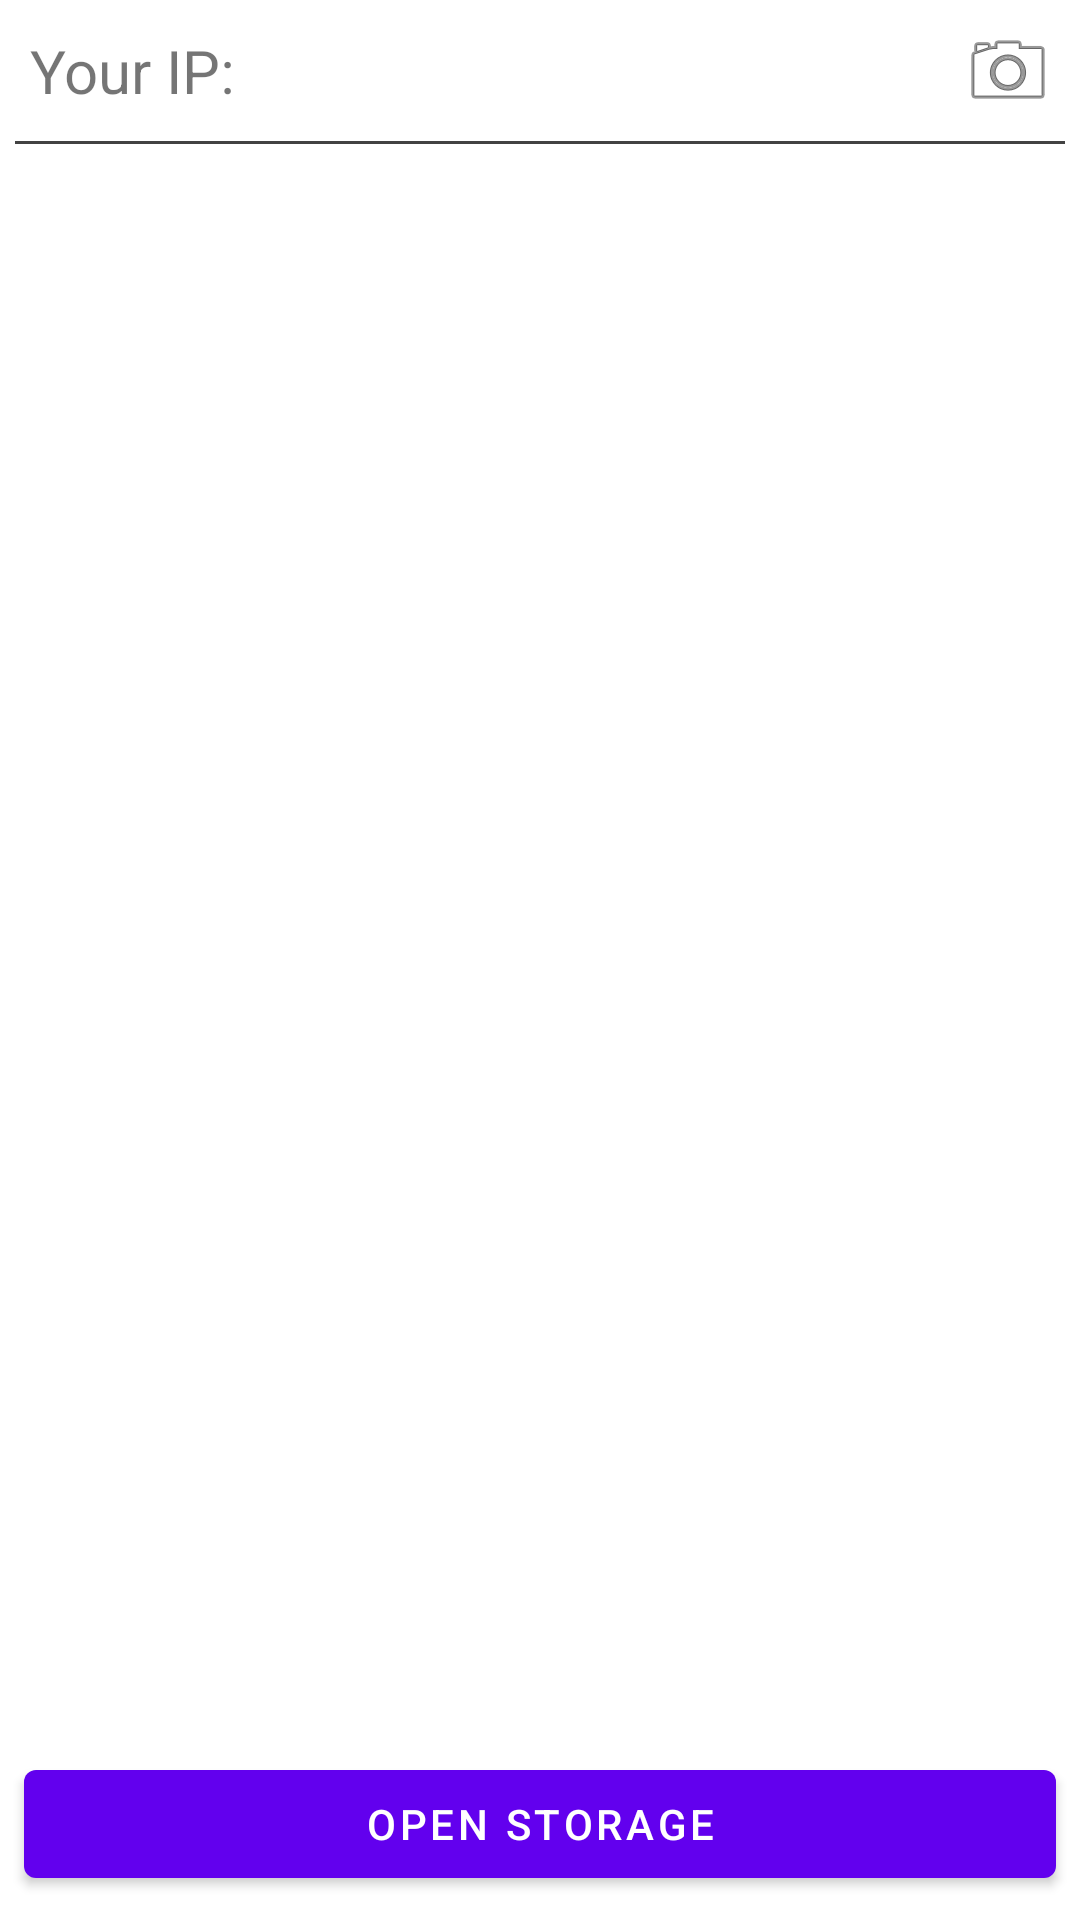

Icon click points for this 1080px×1920px phone screenshot, format point (x, y):
camera: point (1008, 69)
